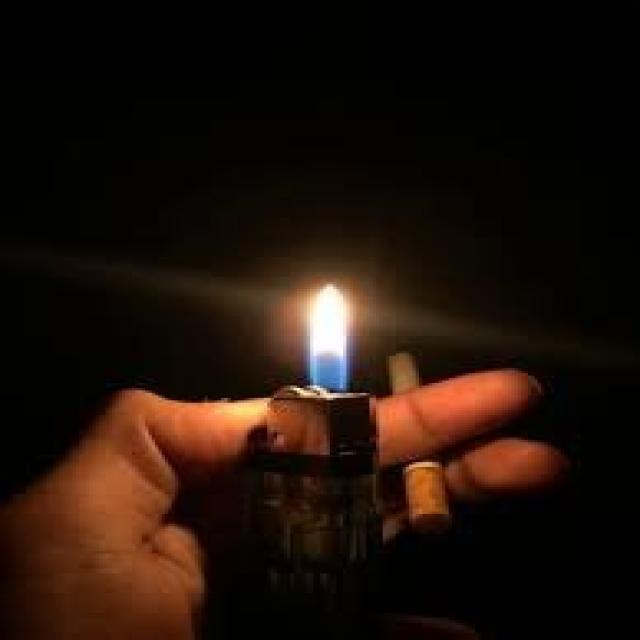fire: (303, 283, 356, 393)
